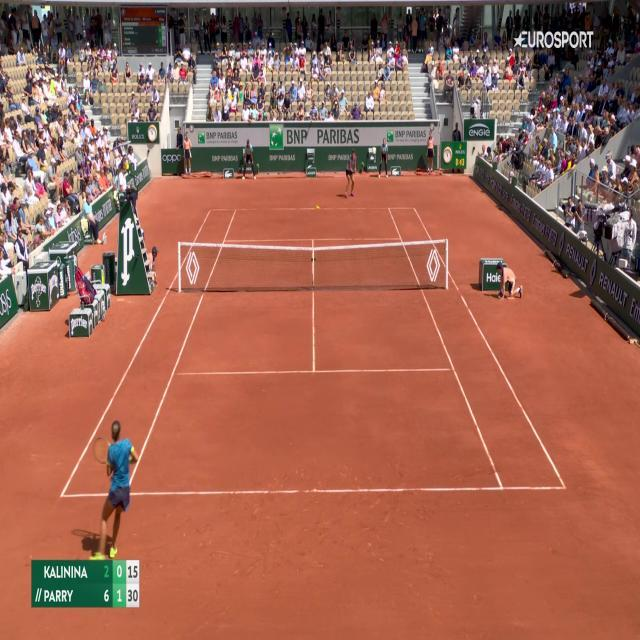left side: (61, 210, 236, 496), (389, 208, 565, 488)
player: (89, 416, 140, 560), (343, 147, 358, 199)
